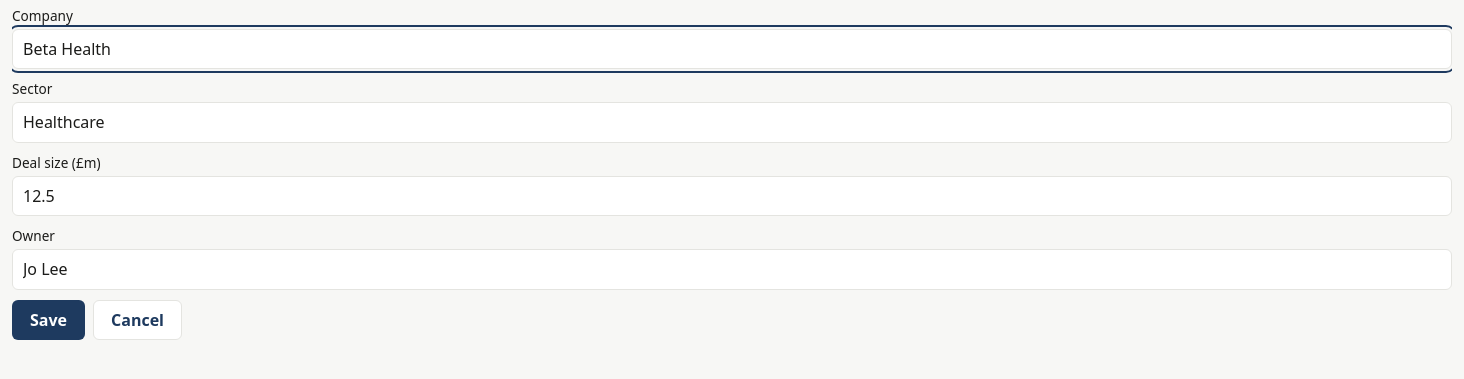
Scenario: EditDealForm validation › rejects a size of 0 and focuses it
The width and height of the screenshot is (1464, 379).
Replace the text in the field labelled "Deal size (£m)" with "0" at coordinates (732, 196), box [12,176,1452,216]
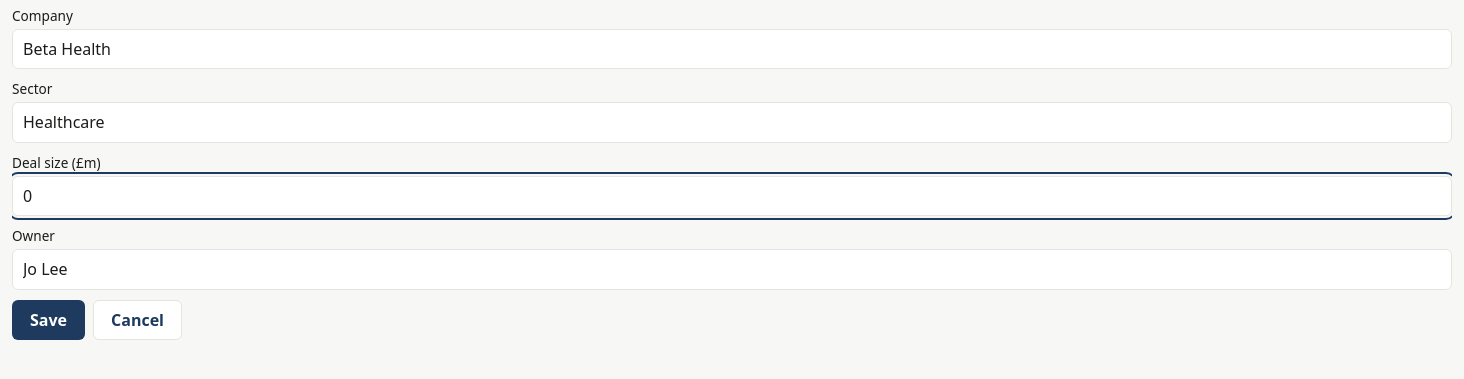
Click the button "Save" at coordinates (48, 320), box [12,300,85,340]
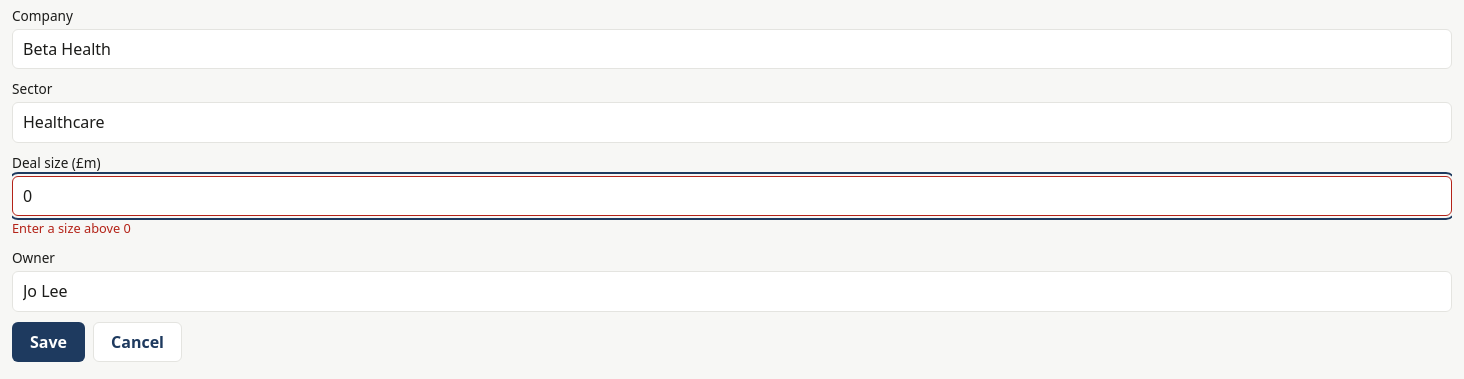
Now the message reads "Enter a size above 0", box [12,219,131,237]
